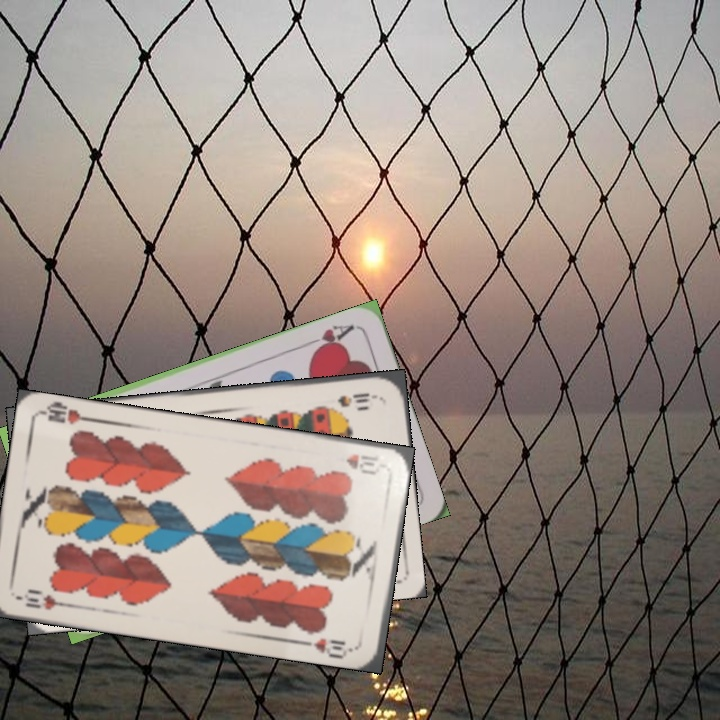H10: (12, 585, 72, 613), (342, 450, 385, 476)
HA: (301, 320, 357, 357)
S10: (334, 389, 380, 410)
